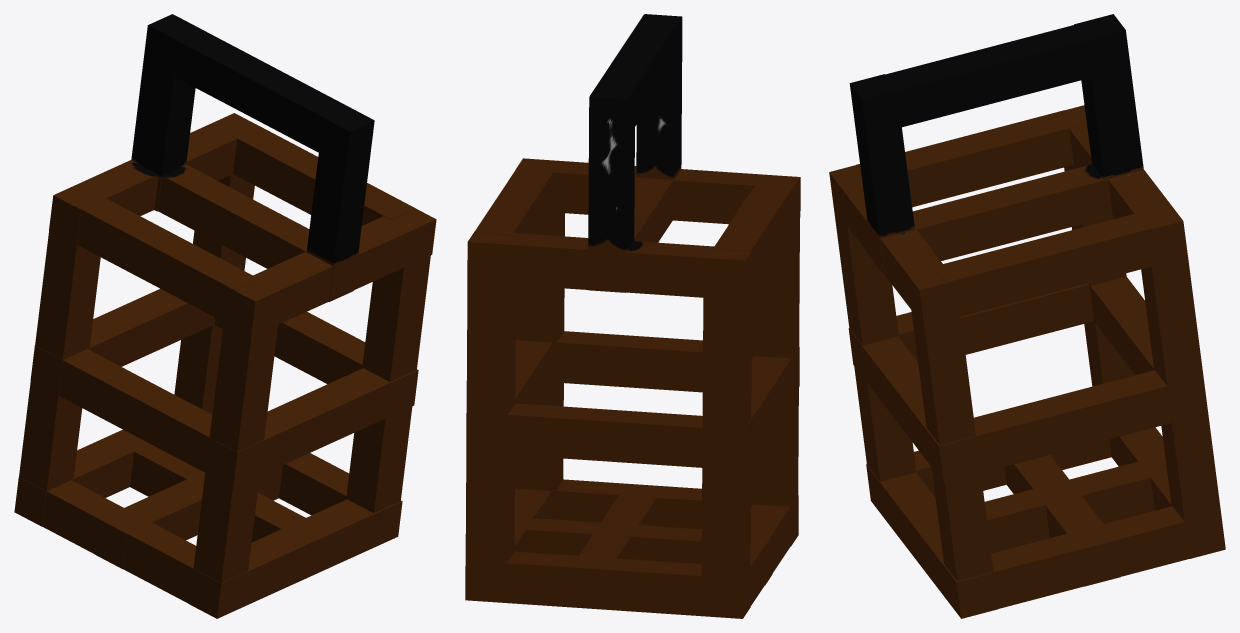
The model's file is Lamp.fbx.
The picture shows the model from 3 angles, left to right: view 1: azimuth 30°, elevation 25°; view 2: azimuth 150°, elevation 25°; view 3: azimuth 270°, elevation 25°; orthographic projection. The views are drawn at different scales.
Parts seen in each view (by area): view 1: node_id69; view 2: node_id69; view 3: node_id69.
Boxes of the visible parts, box(x1,y1,x2,y2) form: node_id69: box(14, 14, 436, 618); node_id69: box(465, 14, 800, 618); node_id69: box(829, 14, 1225, 618).
Bounding box in the file's own units: 0.1274 × 0.1919 × 0.1337.
1 material, 1 textured.
